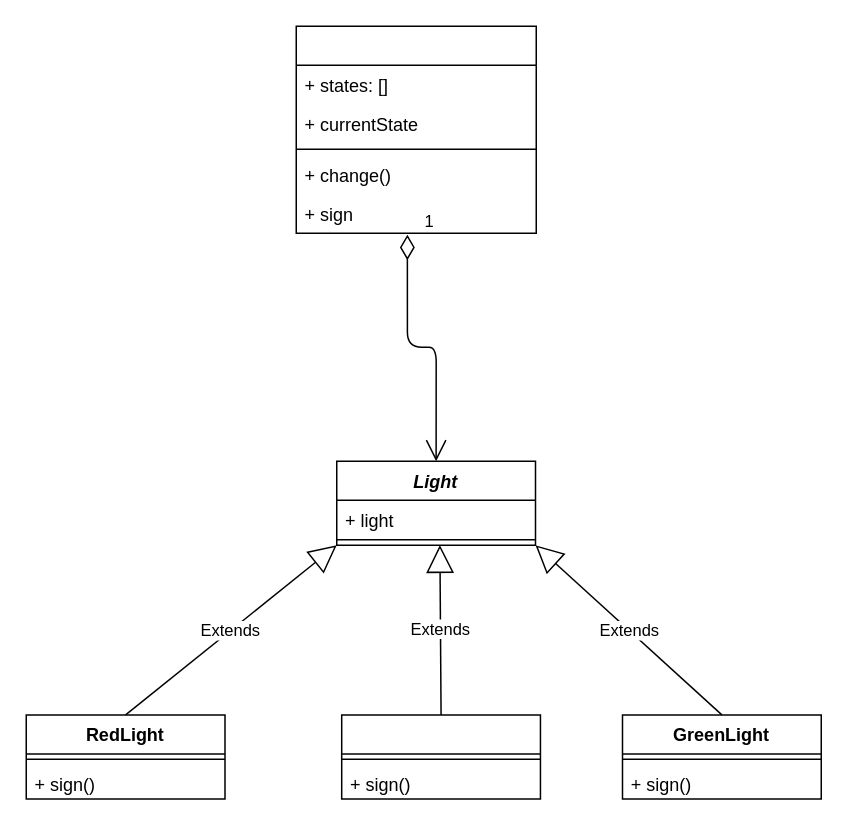
Image size: 848x830. Some labels were removed from this diagram. Here are the shapes that lost their labels. From the top down, the box of each, then its label:
(295, 25, 536, 233): TrafficLight
(340, 713, 540, 799): YellowLight
